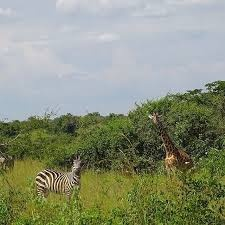giraffe: (146, 109, 200, 187)
zebra: (32, 153, 88, 216)
